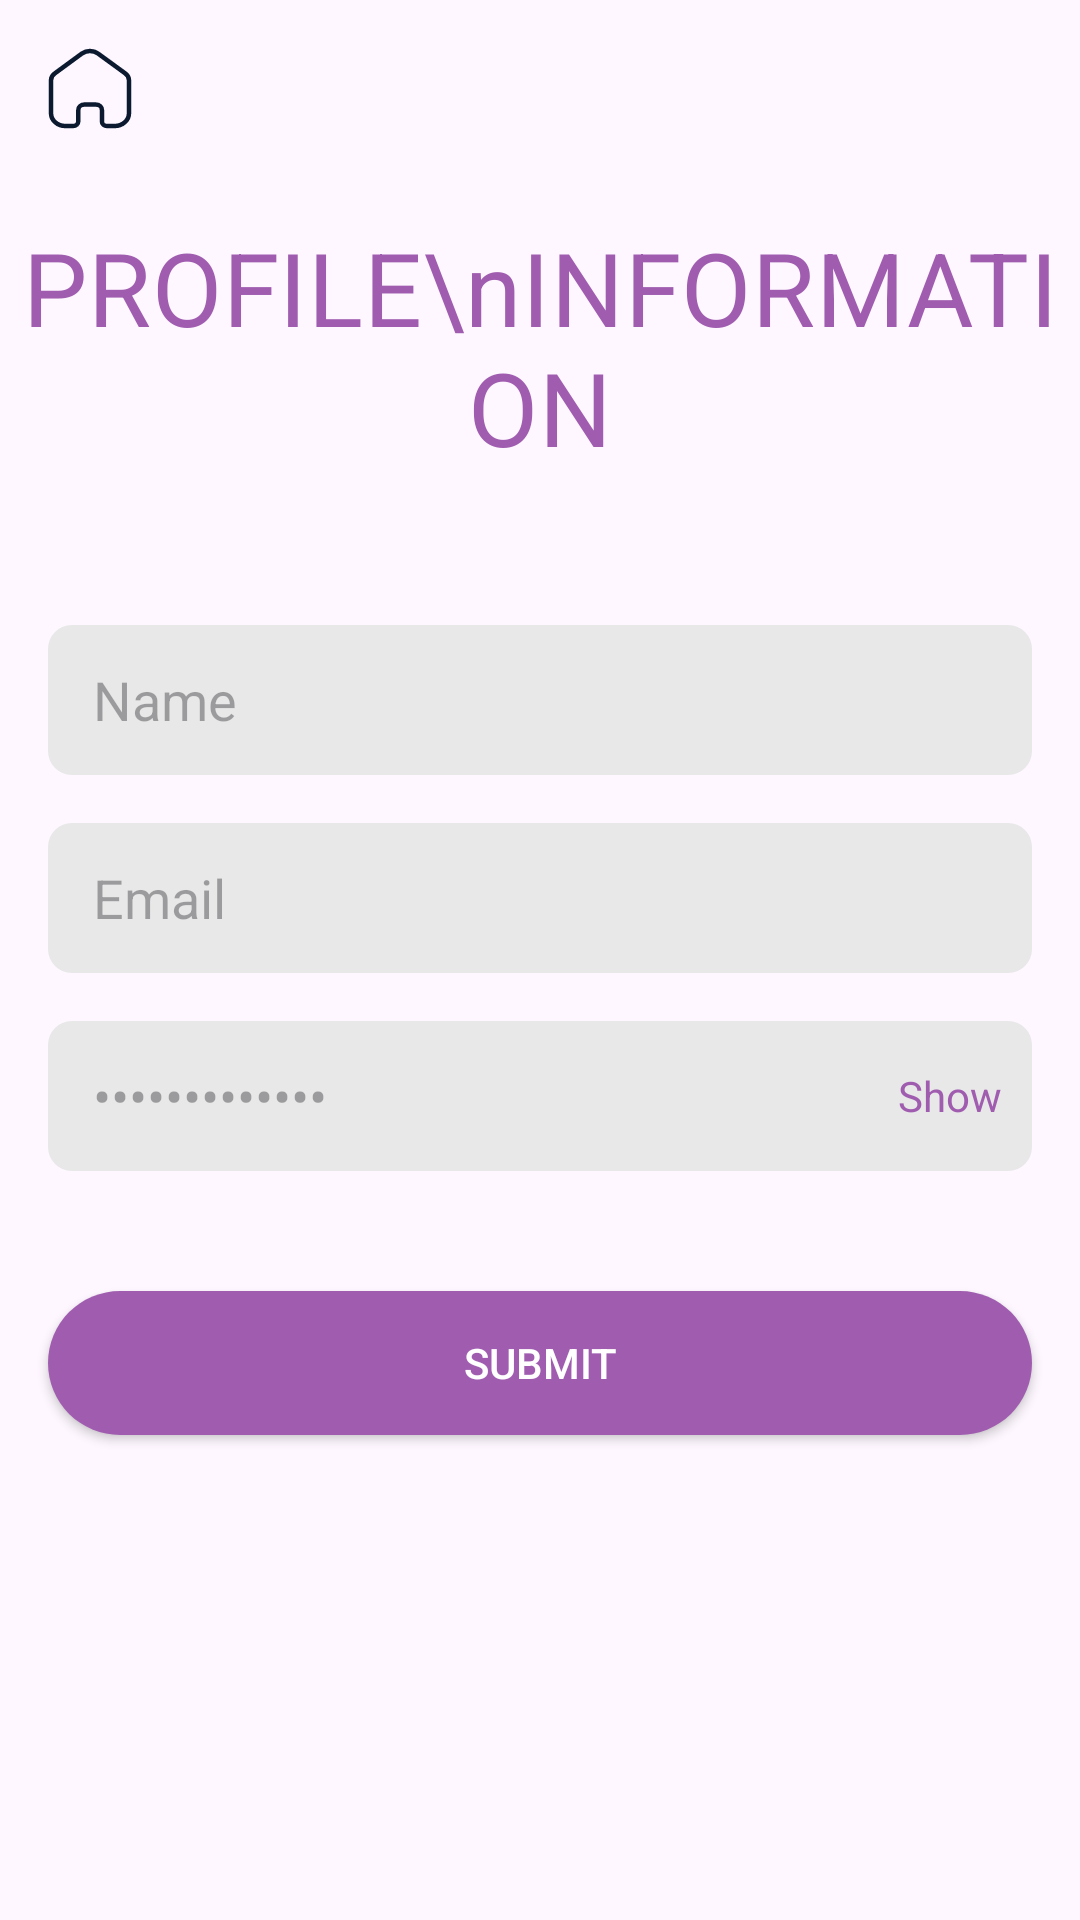

Named icons in this screenshot (1080×1920) and their centers, [x,y]:
home: [90,88]
